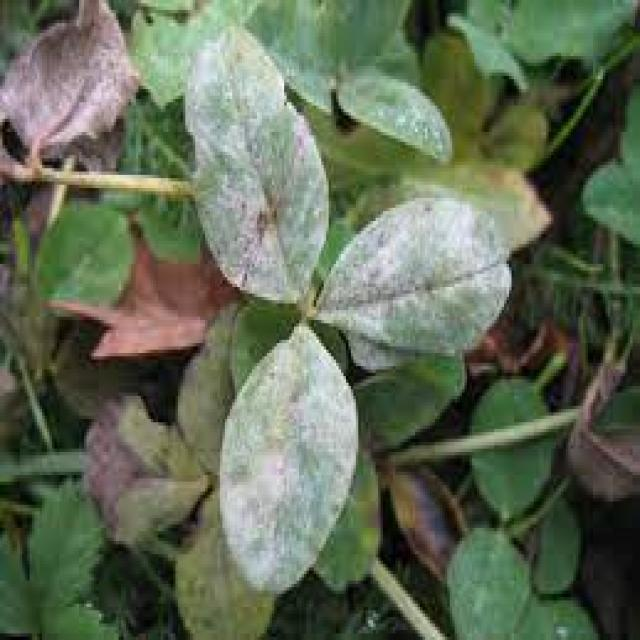powdery-mildew: (207, 40, 314, 292), (258, 338, 338, 606), (350, 228, 493, 336)
